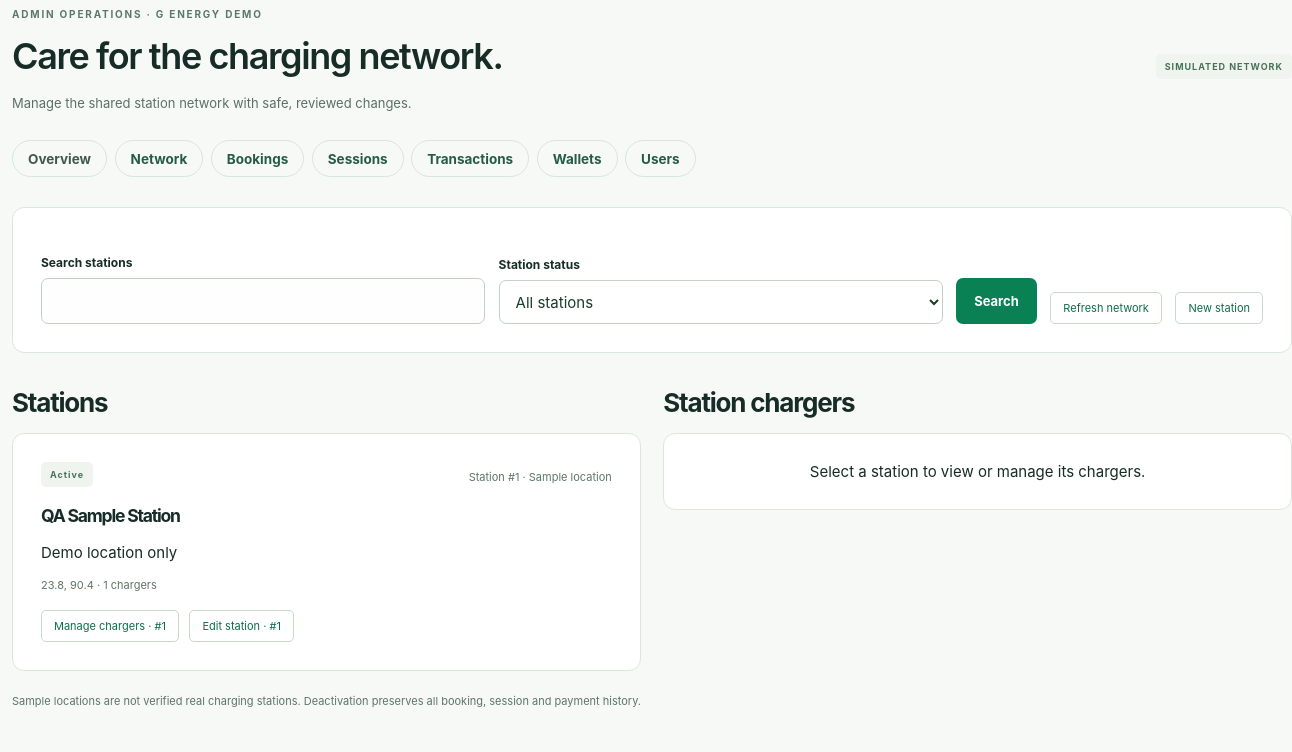
it: network loads actual availability and reports a server activity conflict
Click the button "Manage chargers · #1": (110, 626) x1=41 y1=610 x2=179 y2=642
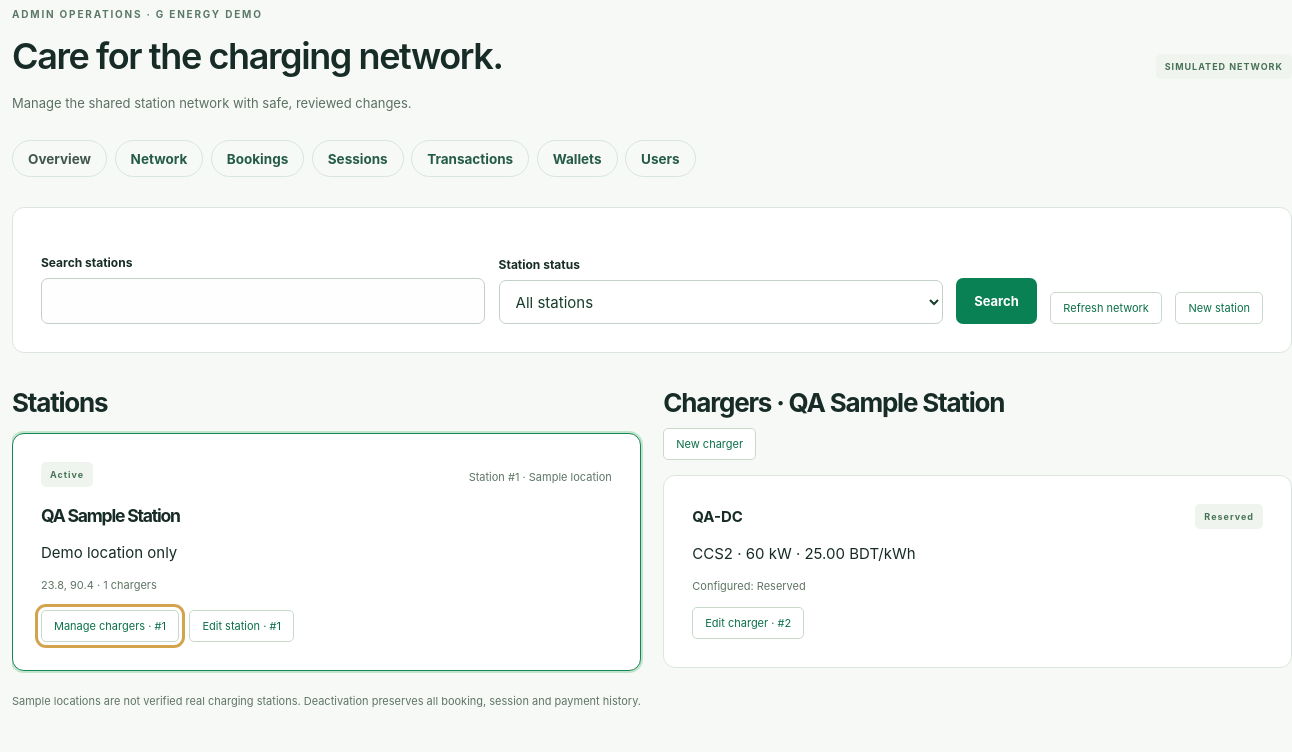
Check: the text "Reserved" is shown, box x1=1195 y1=504 x2=1263 y2=529
Click the button "Edit charger · #2": (748, 623) x1=692 y1=607 x2=804 y2=639
(page scrolled)
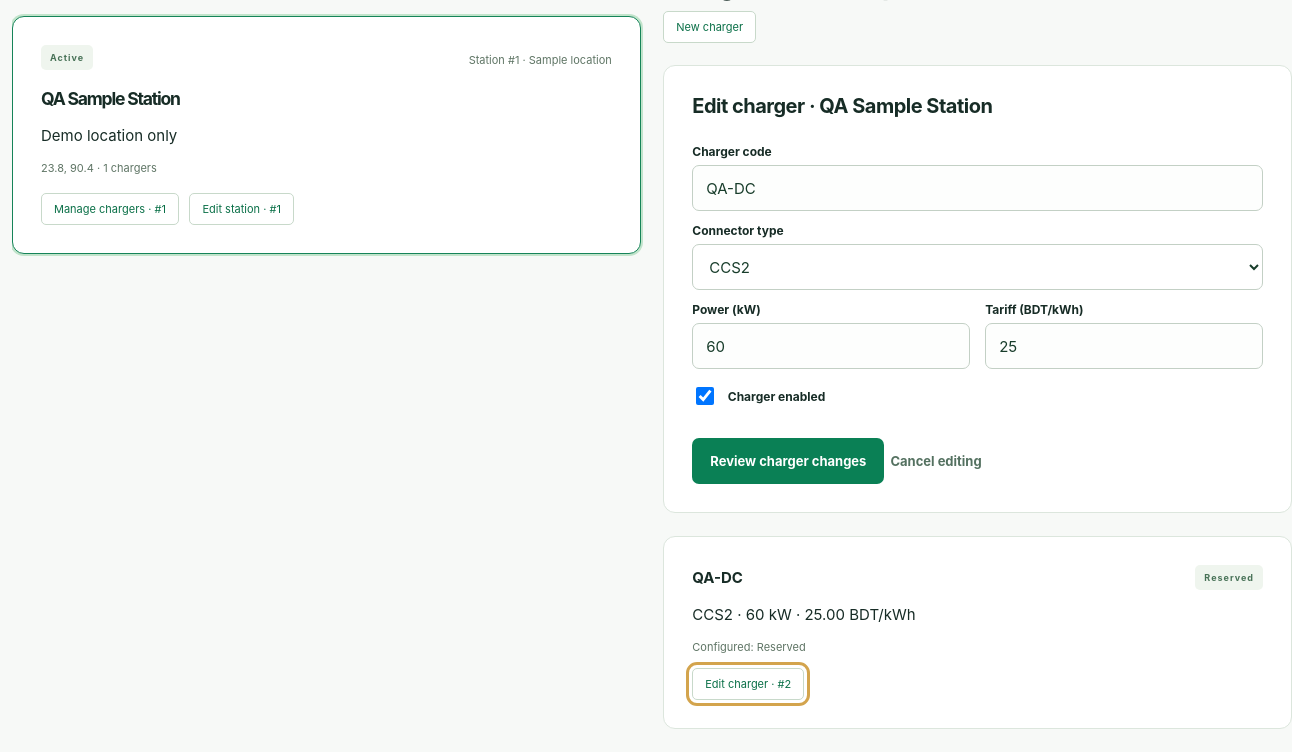
Click the checkbox labelled "Charger enabled": (705, 396) x1=696 y1=388 x2=714 y2=406
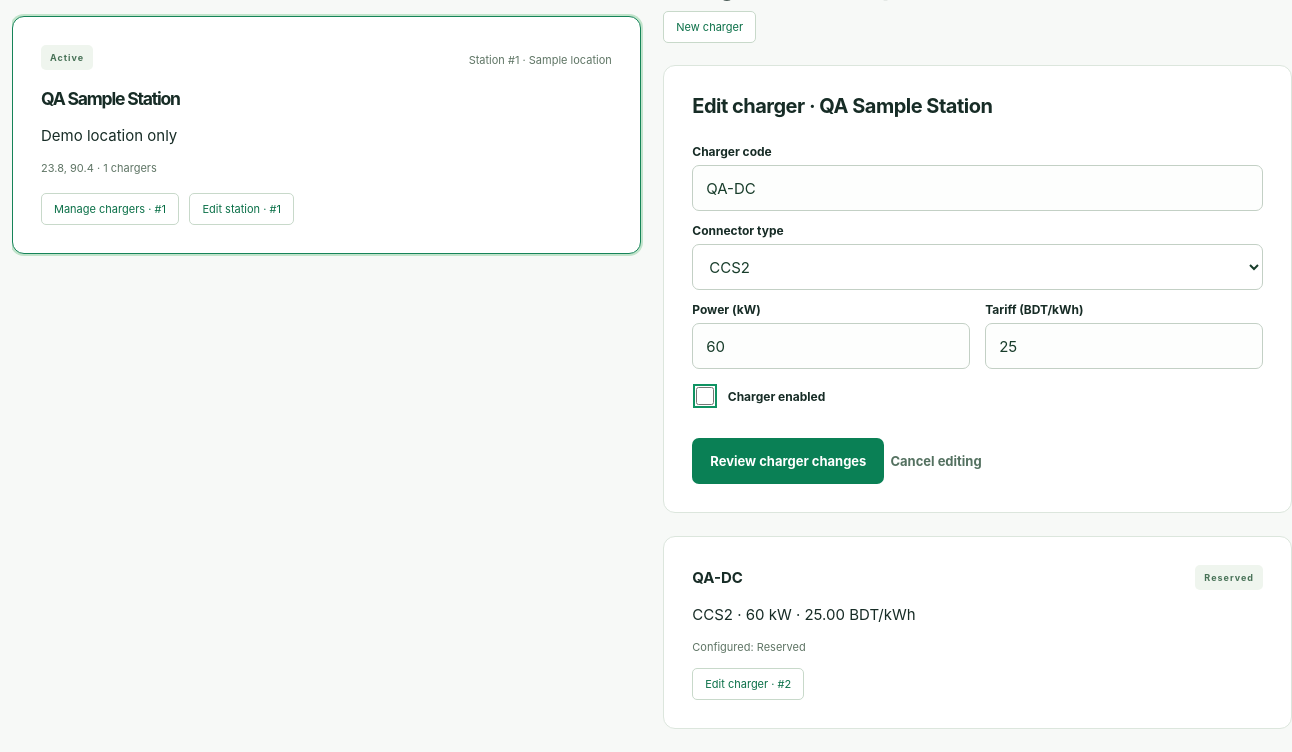
Click the button "Review charger changes": (788, 462) x1=692 y1=438 x2=884 y2=484
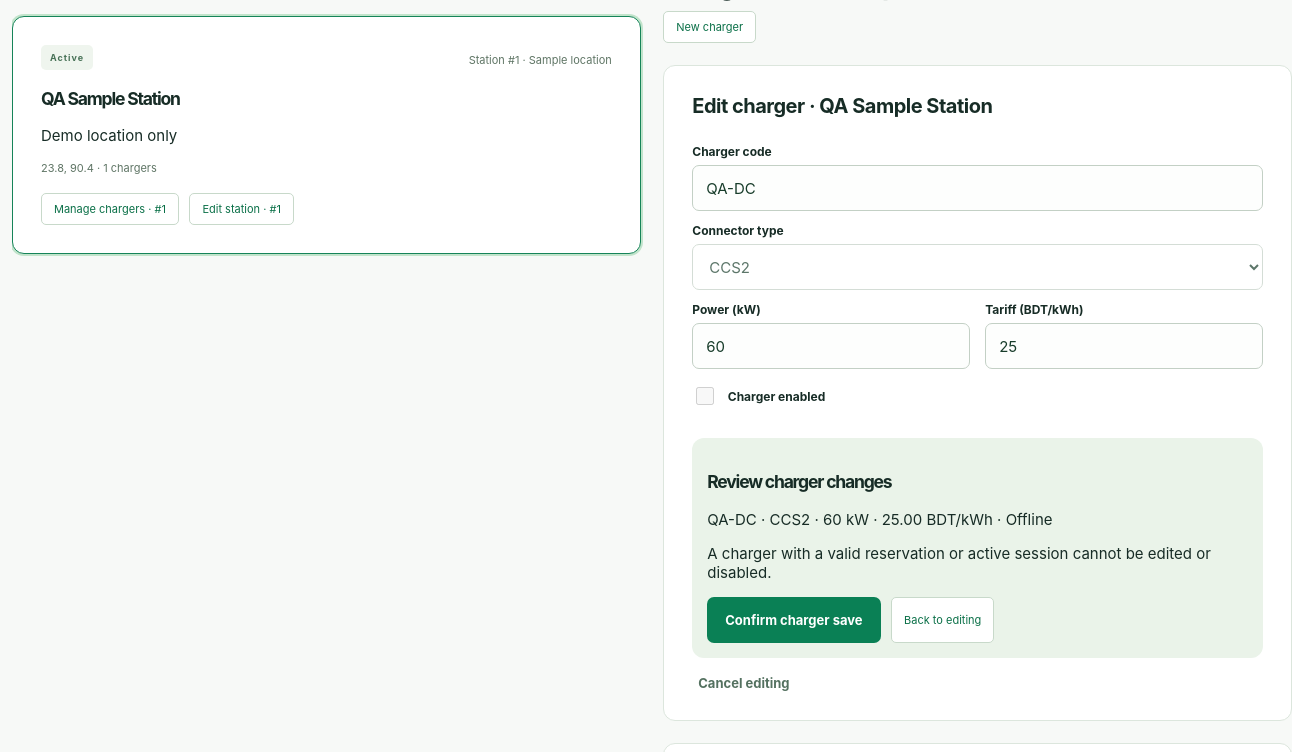
Click the button "Confirm charger save": (794, 620) x1=707 y1=597 x2=881 y2=643
(page scrolled)
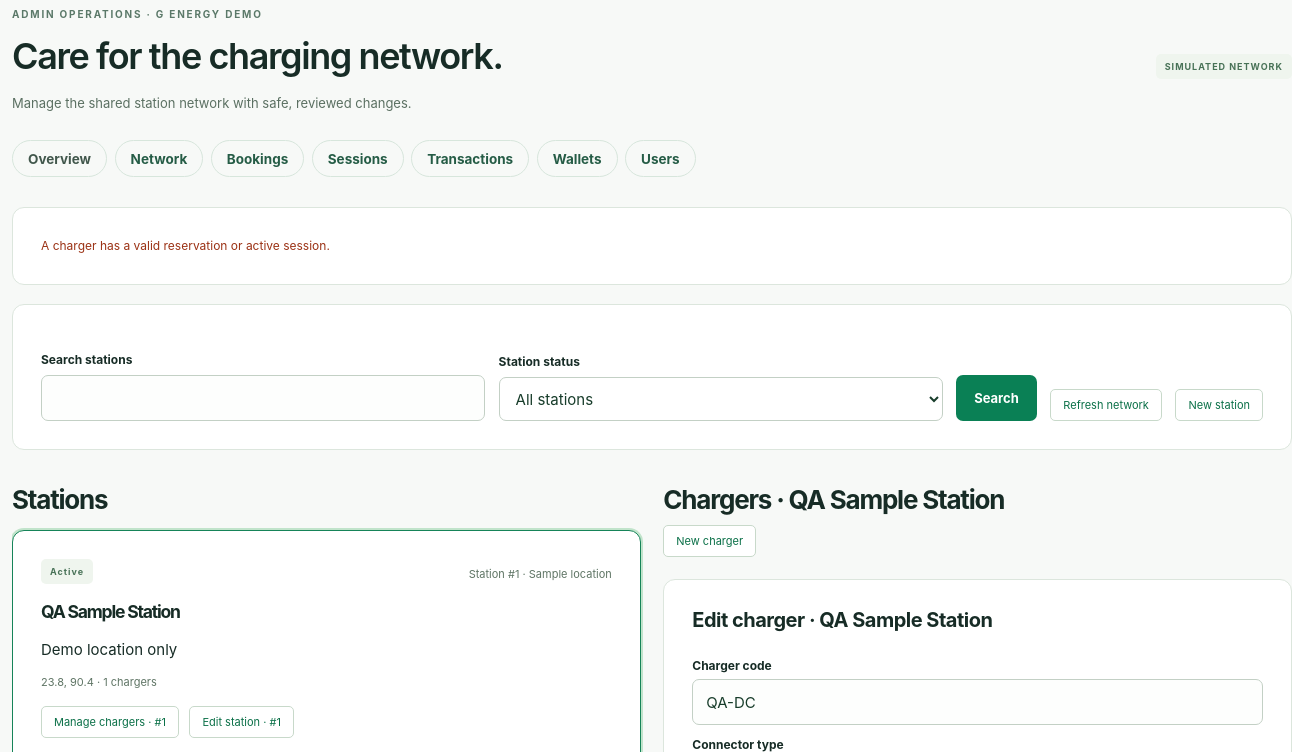
Check: the message shows "valid reservation", box x1=41 y1=238 x2=330 y2=254
